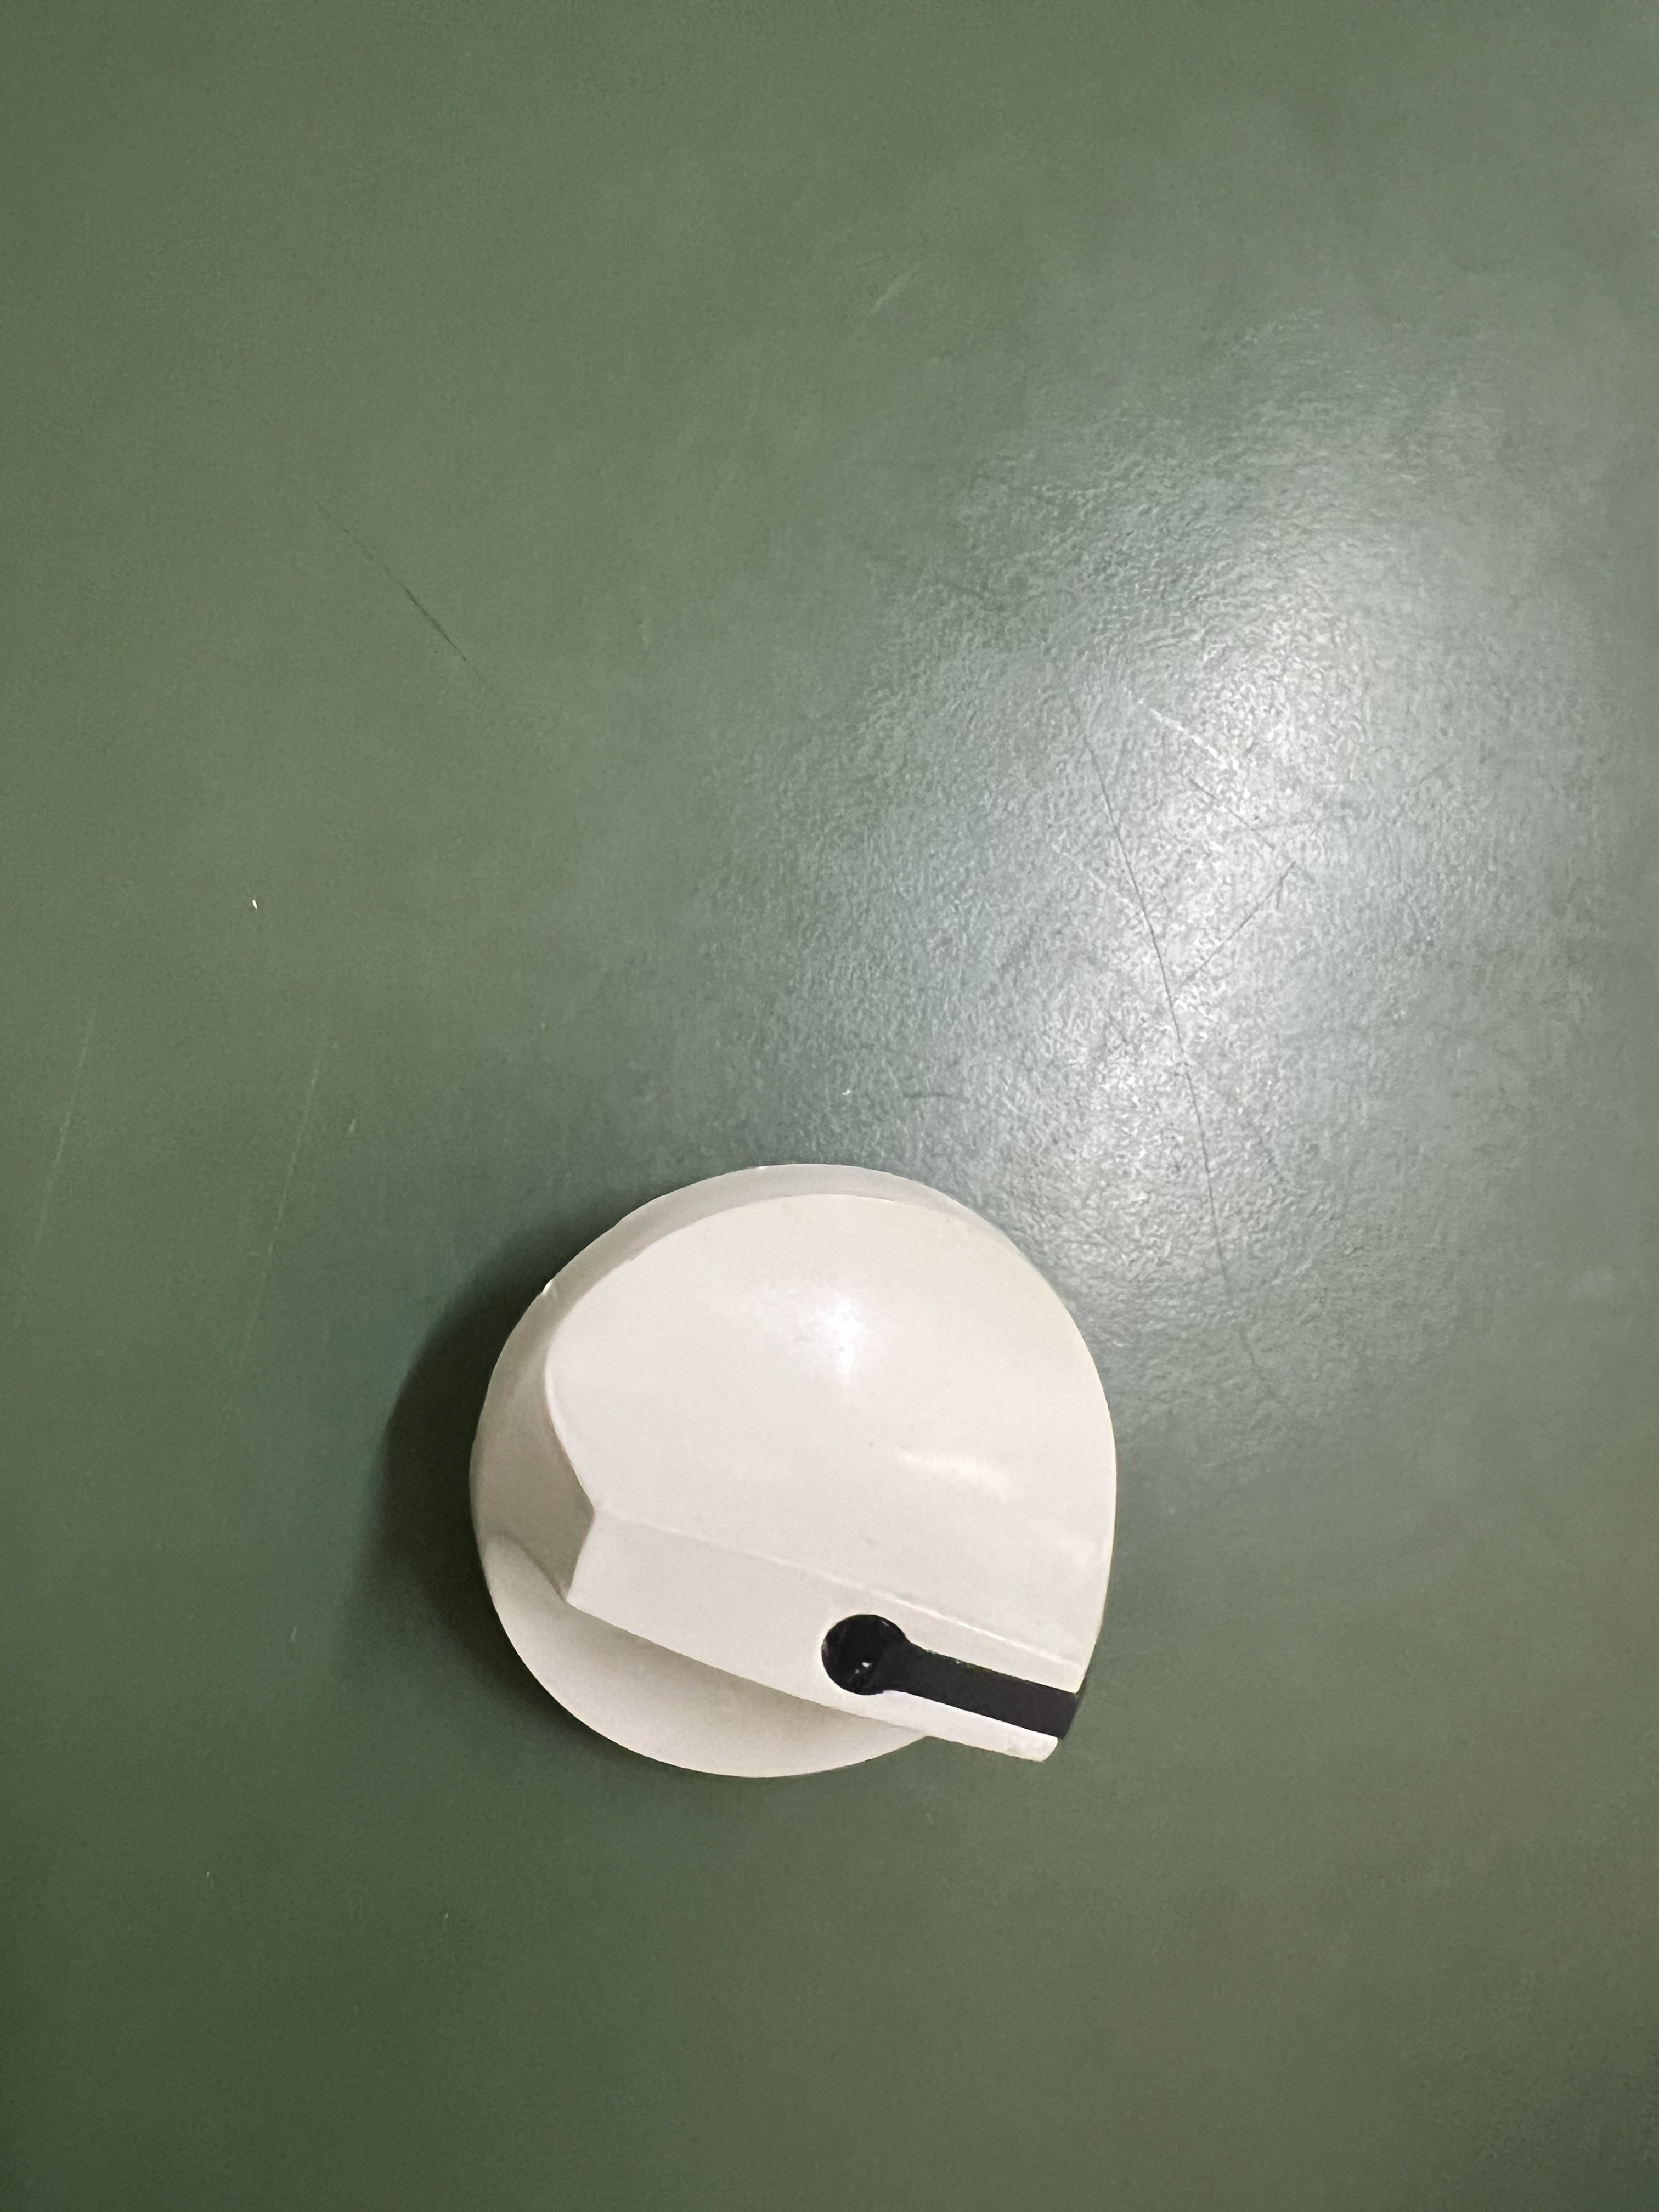regulator: (455, 1172, 1161, 1801)
